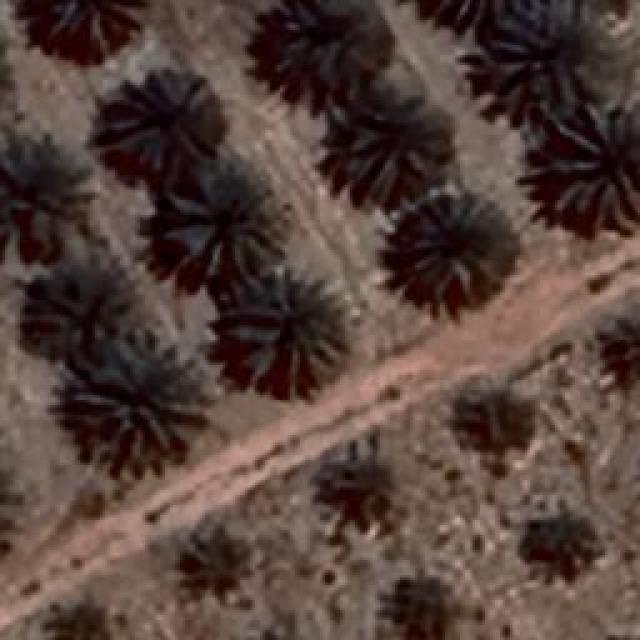PalmTree: (35, 63, 622, 345), (72, 334, 206, 478), (133, 10, 480, 63), (220, 262, 352, 400), (157, 167, 280, 285), (95, 68, 223, 170), (480, 0, 605, 102), (544, 102, 638, 222), (402, 190, 500, 302), (268, 13, 392, 98), (334, 100, 448, 192), (12, 0, 146, 55), (35, 269, 120, 349), (452, 371, 526, 459), (178, 530, 264, 598), (0, 151, 72, 228), (381, 582, 454, 640), (524, 508, 588, 572), (317, 462, 385, 522), (44, 600, 128, 640), (0, 450, 21, 565), (0, 448, 16, 567), (0, 19, 15, 133)
